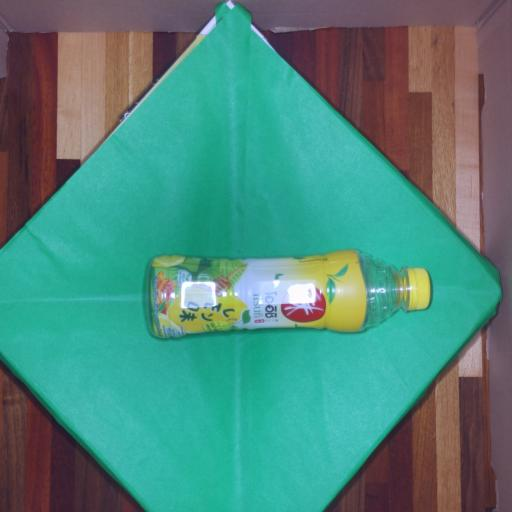bottle: (149, 251, 430, 337)
